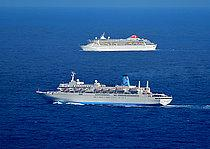Ship: (35, 71, 180, 111), (79, 30, 160, 54)
